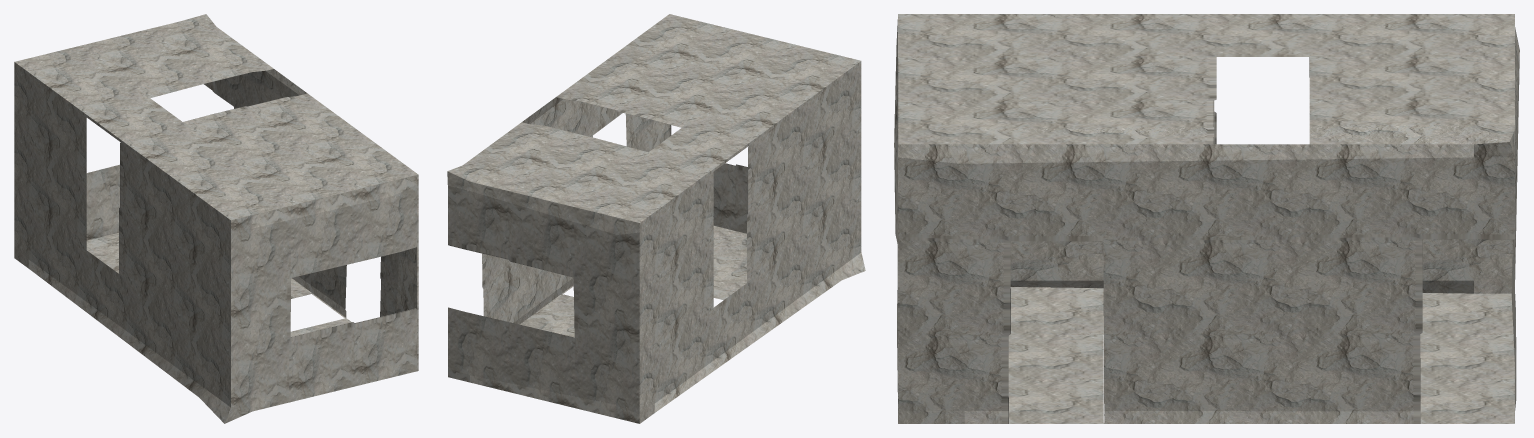
The model's file is Pedra.fbx.
3 views of the same model, side by side, from view 1: azimuth 30°, elevation 25°; view 2: azimuth 150°, elevation 25°; view 3: azimuth 270°, elevation 25° (orthographic). The views are drawn at different scales.
Parts seen in each view (by area): view 1: Pedra; view 2: Pedra; view 3: Pedra.
Part boxes in pixels (x1,y1,x2,y2): Pedra: [14, 14, 418, 423]; Pedra: [447, 14, 865, 423]; Pedra: [894, 14, 1519, 423].
Bounding box in the file's own units: 106 × 105 × 203.
